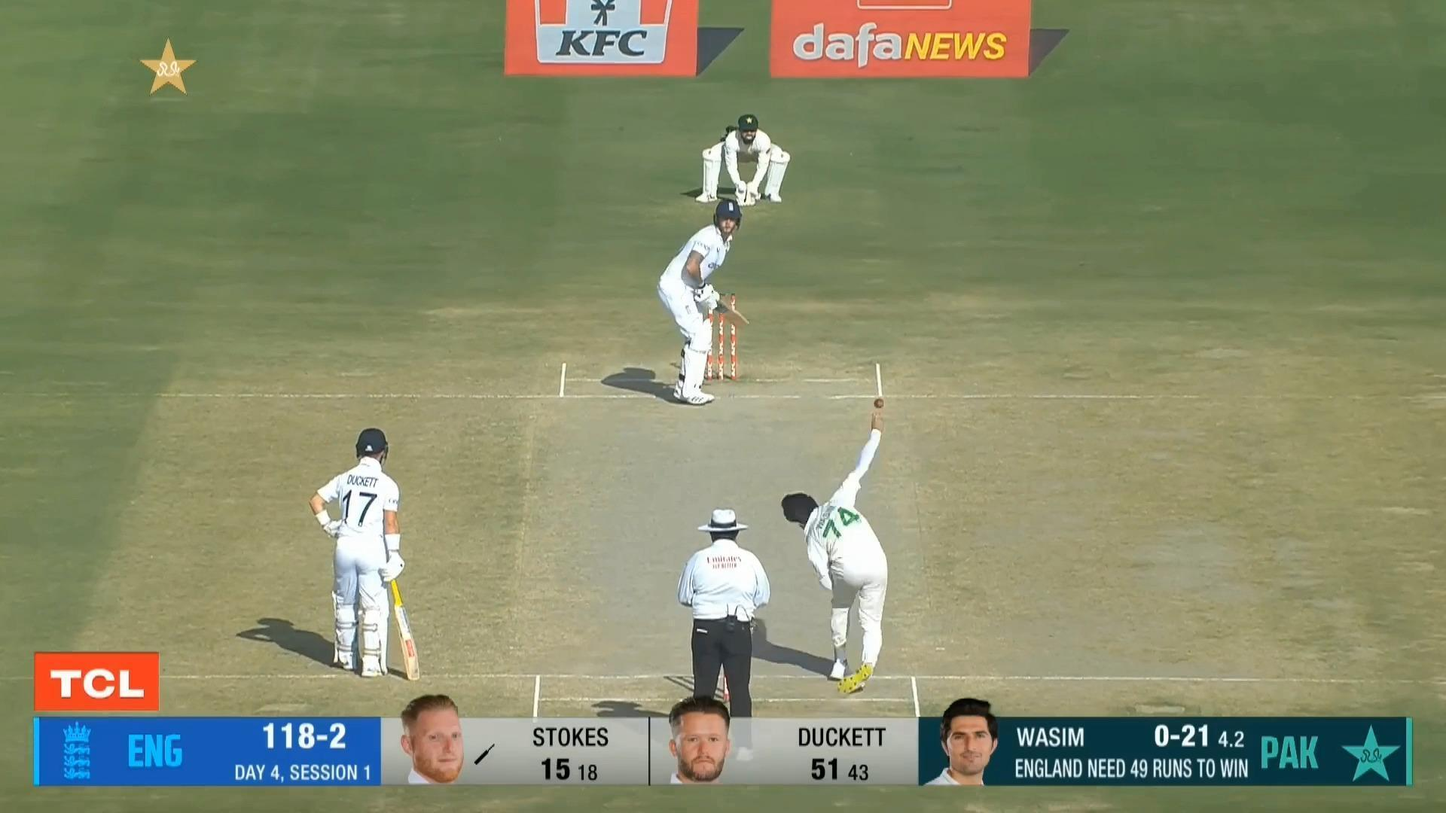BM 1: (306, 425, 410, 682), (654, 194, 746, 408)
BO: (778, 407, 890, 697)
